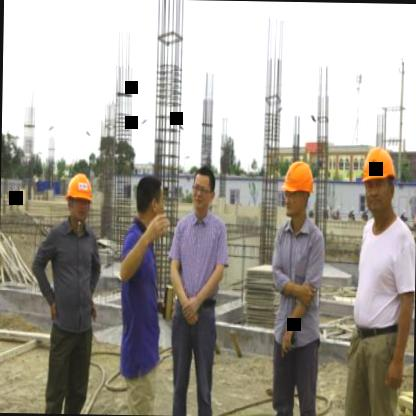head: (131, 171, 164, 234), (190, 164, 218, 212)
helmet: (354, 140, 402, 222), (280, 158, 317, 224), (63, 172, 94, 229)
